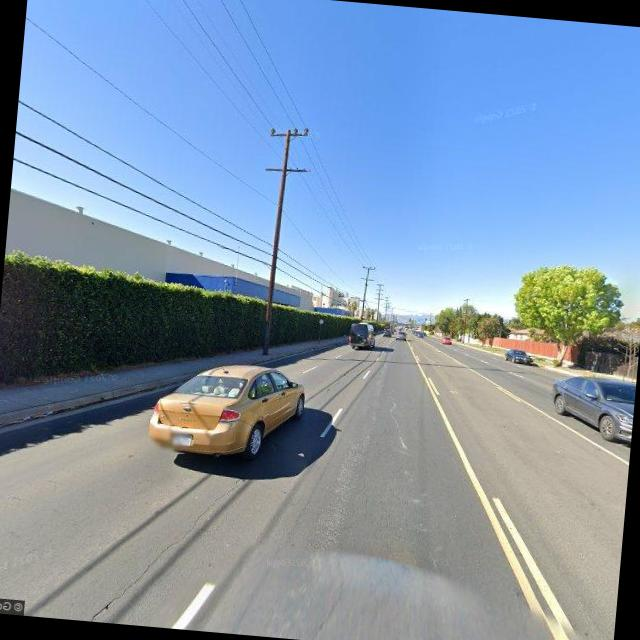pothole: (94, 428, 284, 630)
